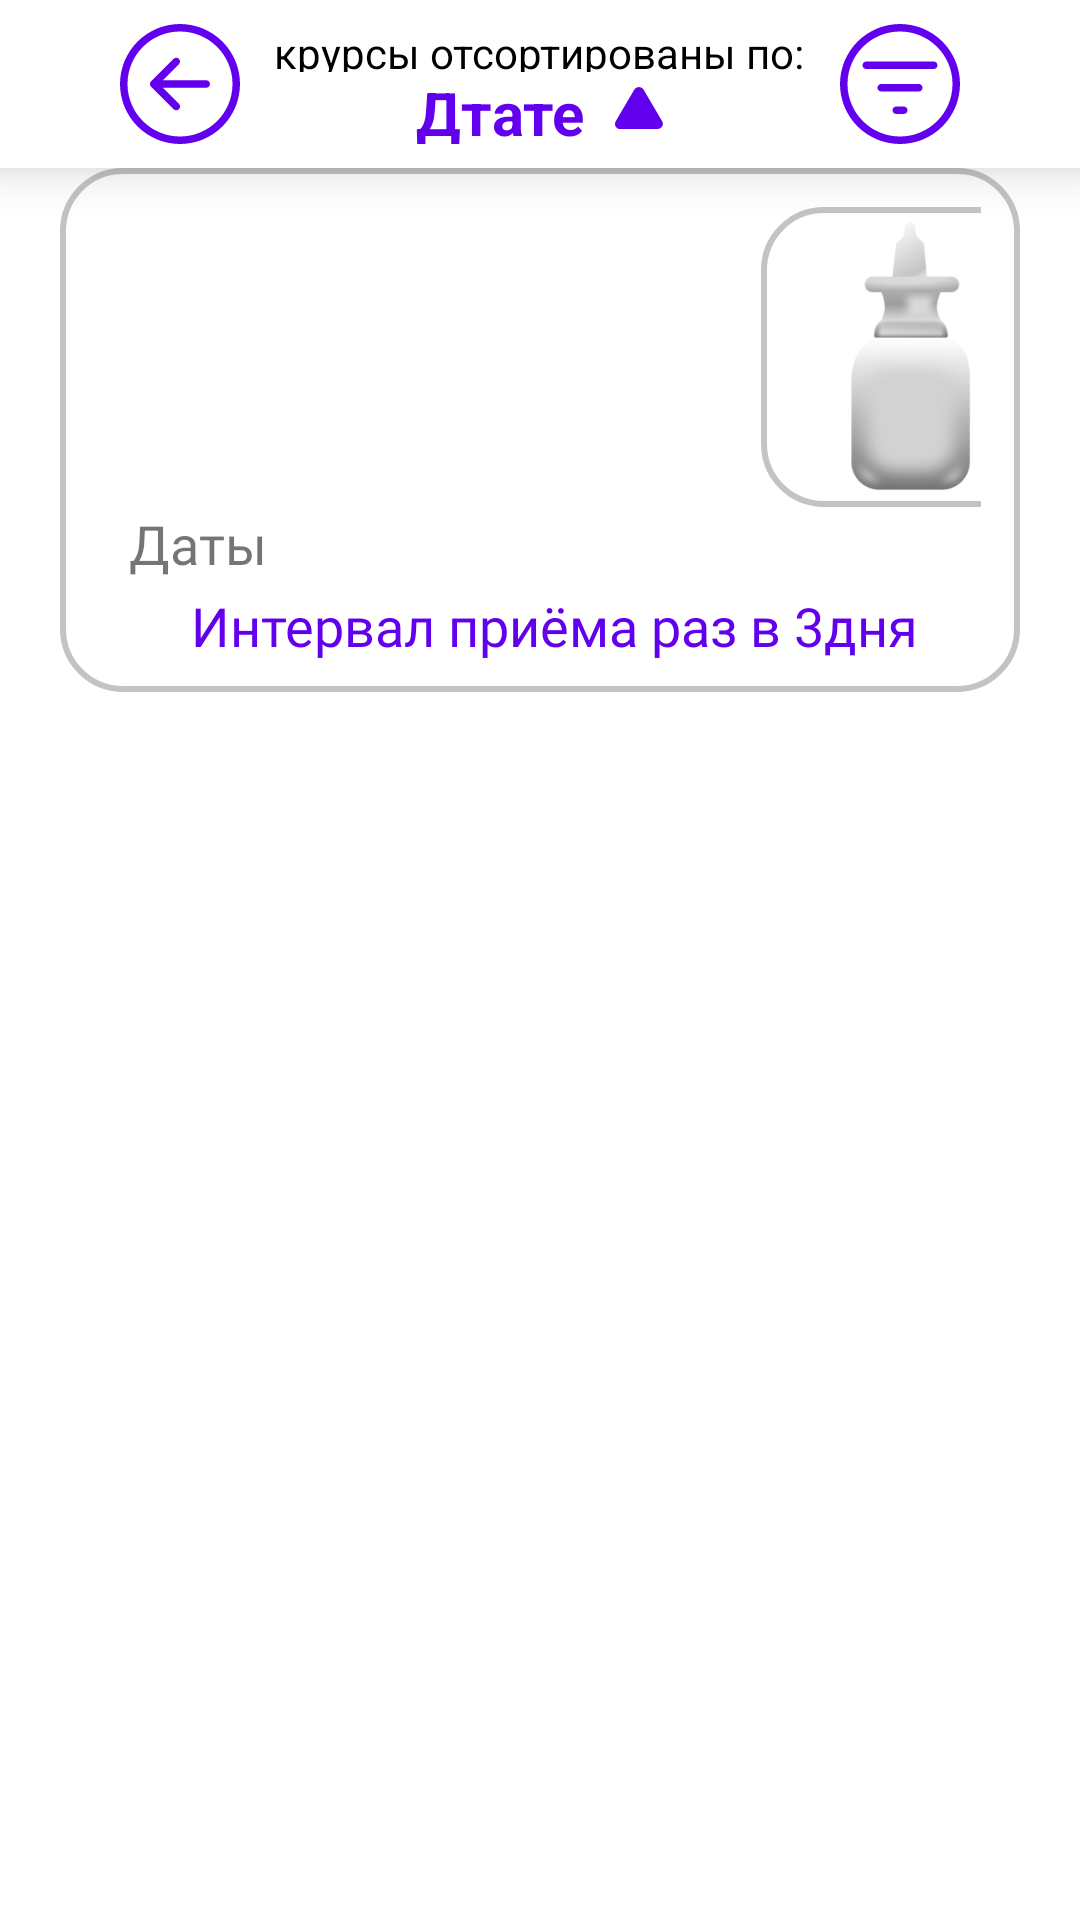

Screen size 1080×1920. Icon name, then its box in pixels as (x1, y1, x2, y2):
arrow left circle: (120, 24, 240, 144)
options: (840, 24, 960, 144)
triangle pointing upwards: (615, 87, 663, 129)
